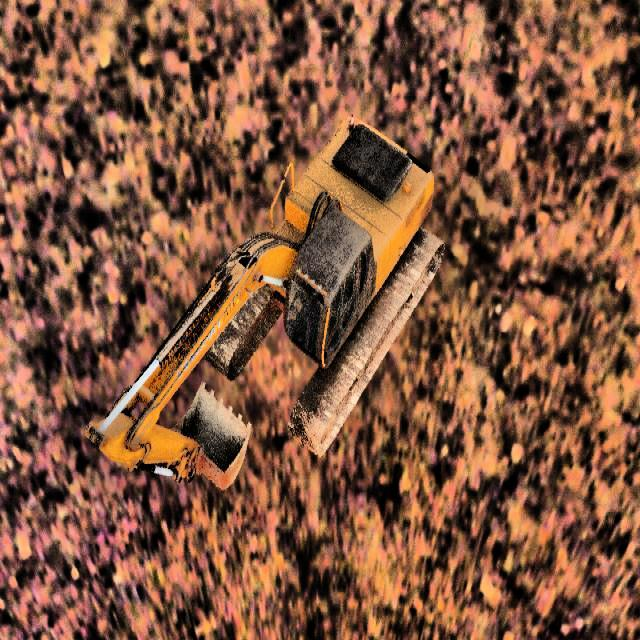excavator: (84, 114, 445, 490)
